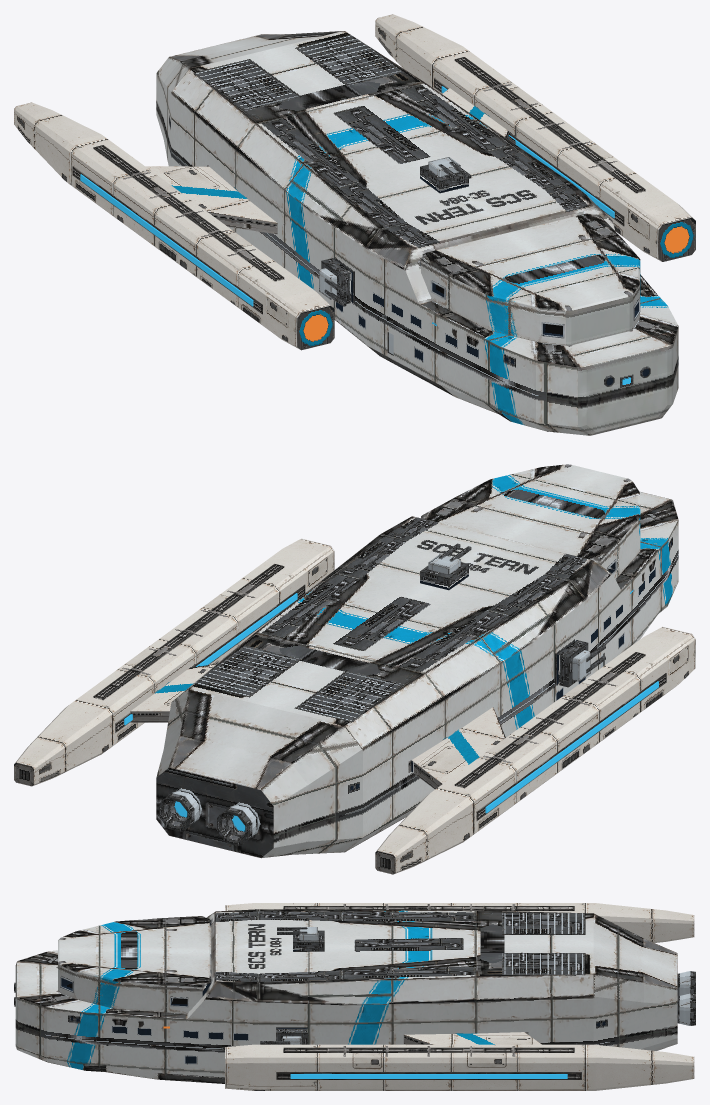
The model's file is tern_lod1.glb.
3 views of the same model, one above another, from view 1: azimuth 30°, elevation 25°; view 2: azimuth 150°, elevation 25°; view 3: azimuth 270°, elevation 25° (orthographic). The views are drawn at different scales.
Visible parts, largest first — view 1: tern_lod1; view 2: tern_lod1; view 3: tern_lod1.
Part boxes in pixels (box(x1,y1,x2,y2)): tern_lod1: box(14, 14, 695, 435); tern_lod1: box(14, 464, 695, 874); tern_lod1: box(14, 903, 695, 1090).
Bounding box in the file's own units: 45 × 18.04 × 81.38.
1 material, 1 textured.
